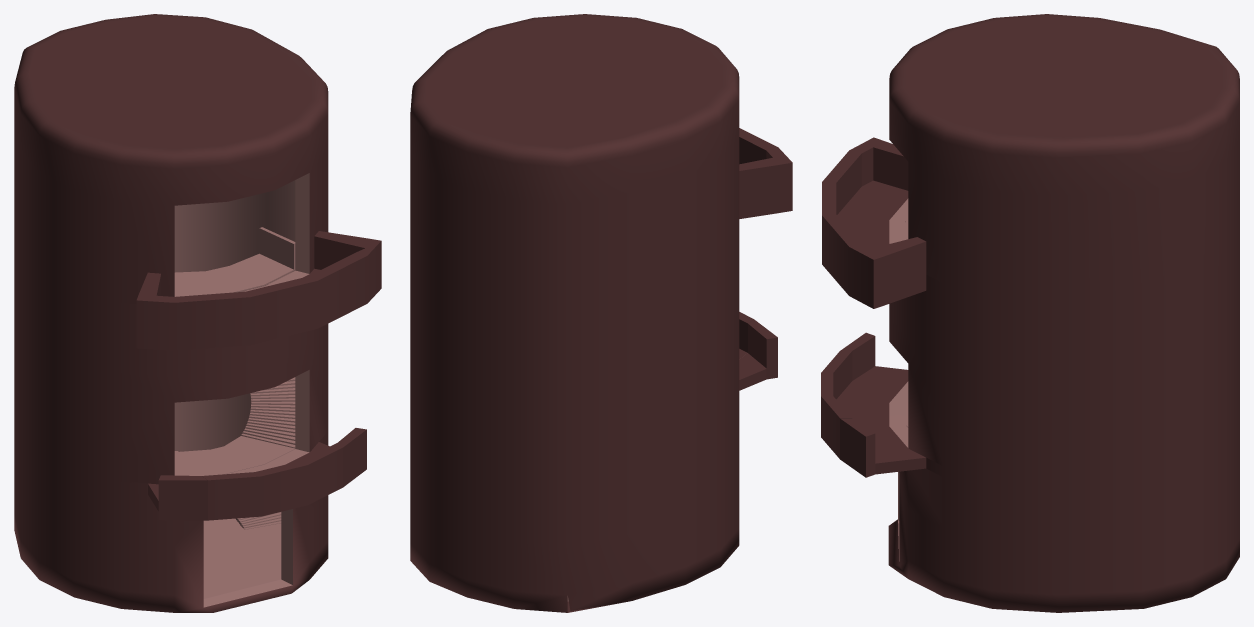
Rendered from house2.FBX.
3 views of the same model, side by side, from view 1: azimuth 30°, elevation 25°; view 2: azimuth 150°, elevation 25°; view 3: azimuth 270°, elevation 25° (orthographic). The views are drawn at different scales.
Visible parts, largest first — view 1: Cylinder002, SpiralStair003, SpiralStair001; view 2: Cylinder002; view 3: Cylinder002.
Boxes of the visible parts, bbox=[...] form: Cylinder002: bbox=[14, 14, 381, 612]; SpiralStair003: bbox=[174, 227, 295, 448]; SpiralStair001: bbox=[174, 436, 295, 529]; Cylinder002: bbox=[410, 14, 792, 612]; Cylinder002: bbox=[821, 14, 1239, 612].
Bounding box in the file's own units: 240 × 388 × 314.
